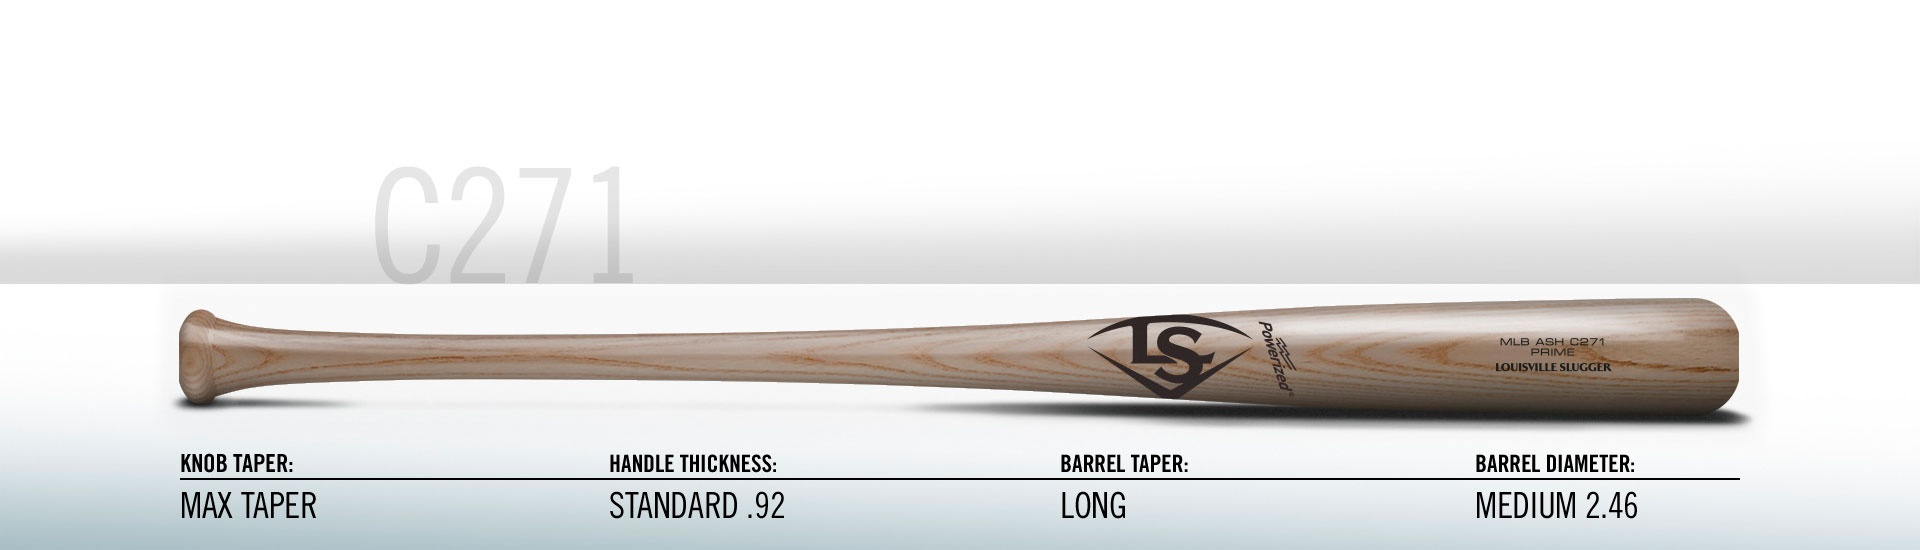bita: (178, 295, 1744, 431)
